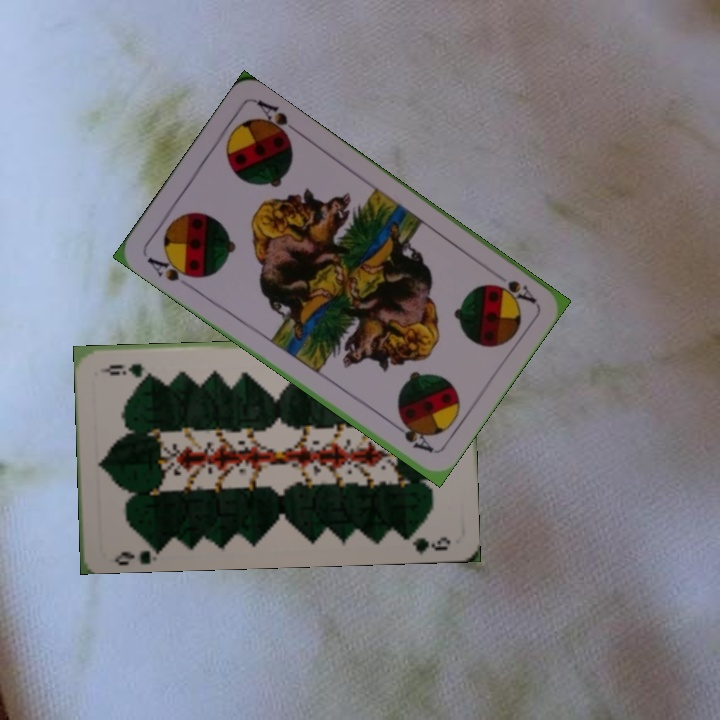G9: (110, 537, 164, 565)
SA: (143, 251, 200, 285), (489, 276, 539, 307)
